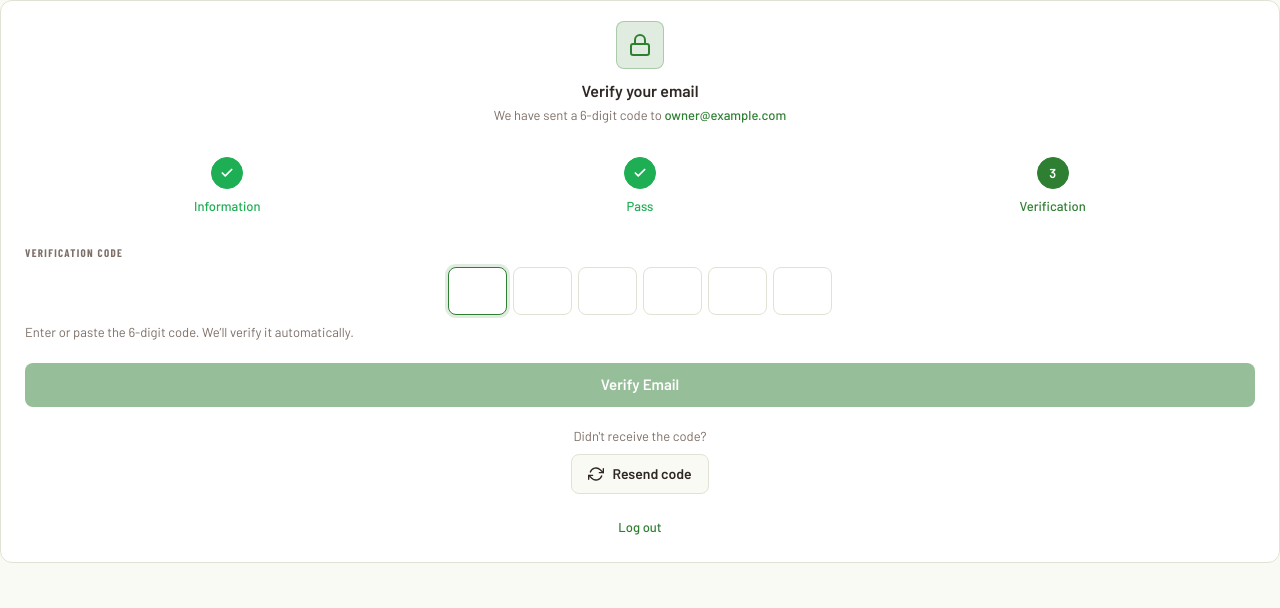
Test case: email confirmation recovery › shows resend success on the page and prevents rapid duplicate sends
The image size is (1280, 608).
Click the button "Resend code" at [640, 474], box [571,454,709,494]
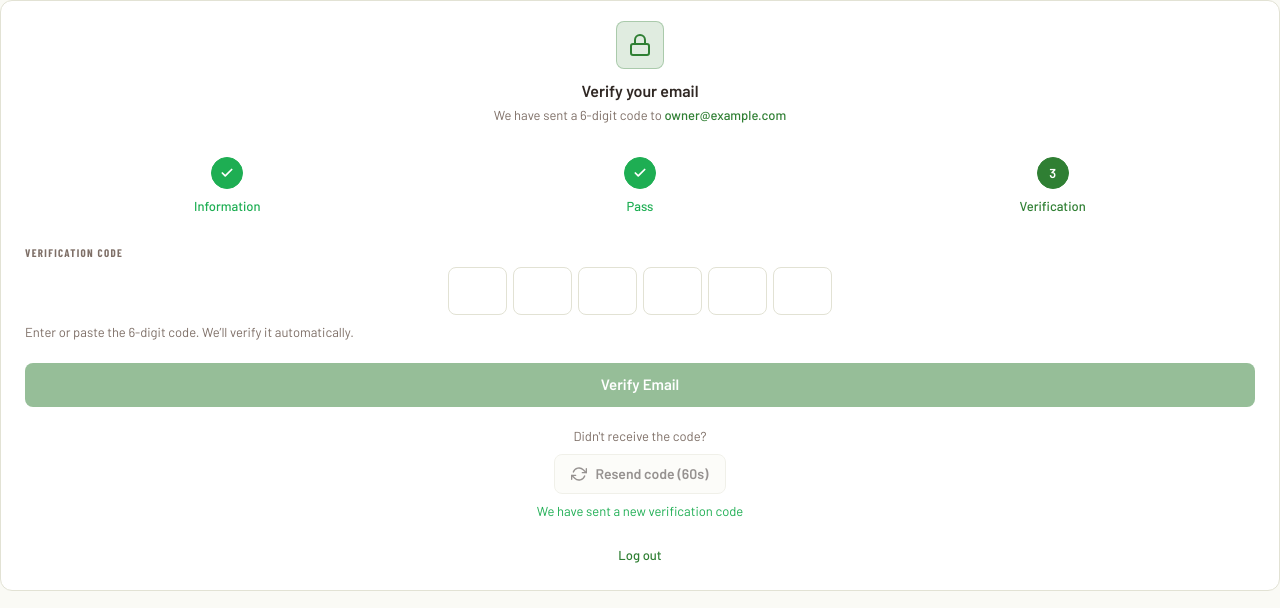
expect the message reads "We have sent a new verification code": met, box [537,503,743,519]
expect the button "Resend code (60s)" is disabled: met, box [554,454,726,494]
